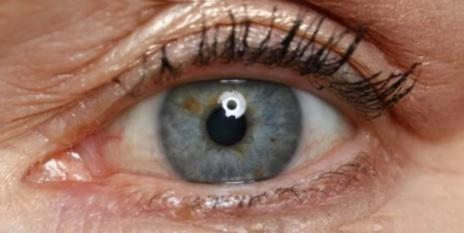eye: (158, 76, 303, 188)
